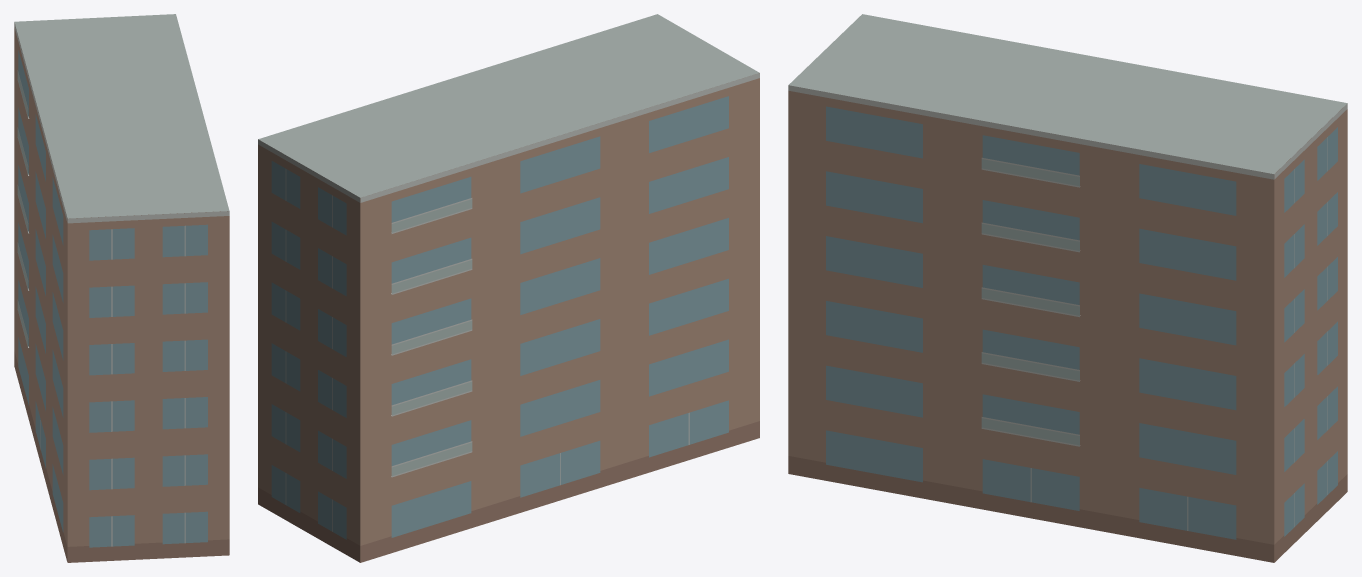
The model's file is survey-upis-32530233.glb.
3 views of the same model, side by side, from view 1: azimuth 30°, elevation 25°; view 2: azimuth 150°, elevation 25°; view 3: azimuth 270°, elevation 25° (orthographic). The views are drawn at different scales.
Visible parts, largest first — view 1: survey-upis-32530233.tmp; view 2: survey-upis-32530233.tmp; view 3: survey-upis-32530233.tmp.
Boxes of the visible parts, x1,y1,x2,y2 form: survey-upis-32530233.tmp: [14, 14, 229, 562]; survey-upis-32530233.tmp: [258, 14, 759, 562]; survey-upis-32530233.tmp: [788, 14, 1347, 562].
Bounding box in the file's own units: 15.21 × 17.2 × 22.44.
